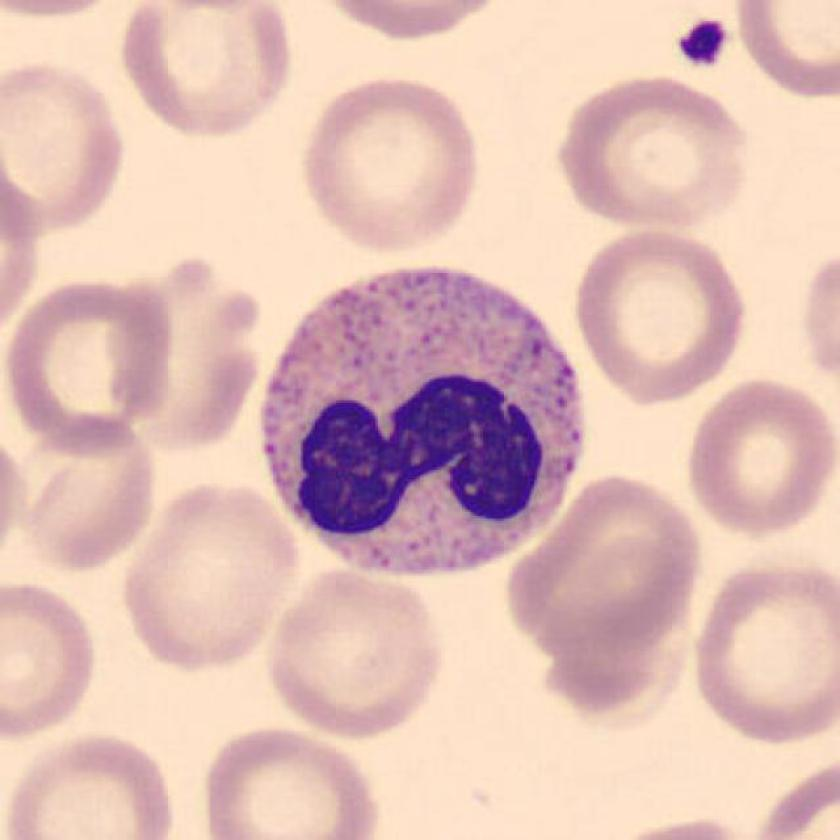neutrophil: (264, 270, 581, 577)
